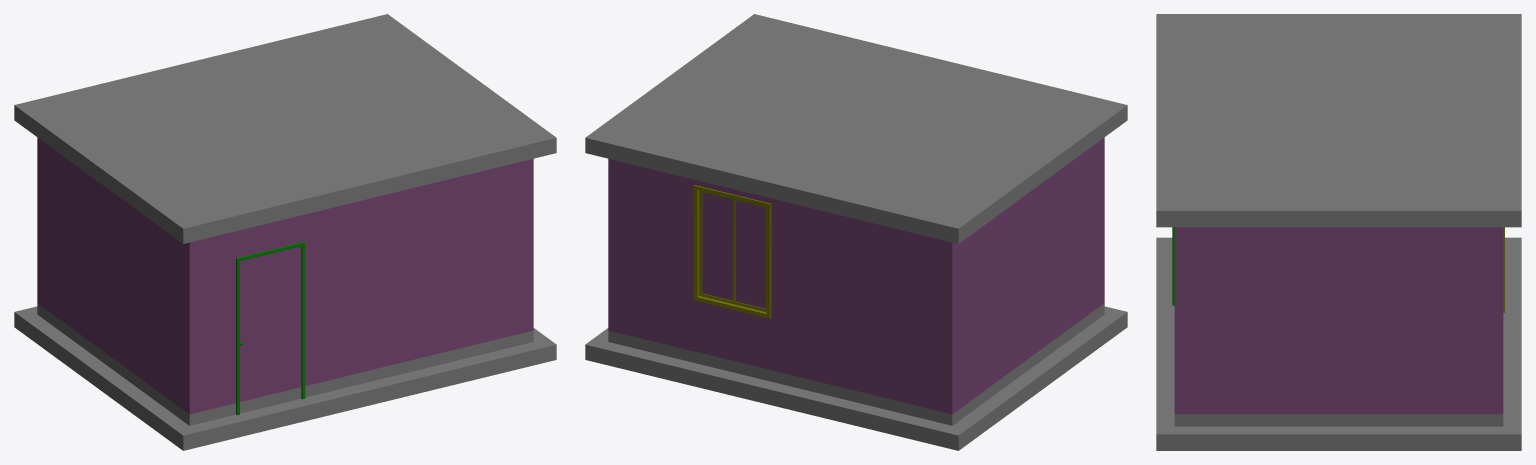
File: FloorPlan301.fbx
3 renders of one model, left to right at view 1: azimuth 30°, elevation 25°; view 2: azimuth 150°, elevation 25°; view 3: azimuth 270°, elevation 25°, orthographic. The views are drawn at different scales.
Visible parts, largest first — view 1: StandardWallSize, Ceiling, Floor, StandardDoorFrame1; view 2: StandardWallSize, Ceiling, Floor, StandardWindow3; view 3: Ceiling, StandardWallSize, Floor.
Part boxes in pixels (x1,y1,x2,y2): StandardWallSize: [37, 137, 533, 425]; Ceiling: [14, 14, 556, 243]; Floor: [14, 306, 556, 450]; StandardDoorFrame1: [236, 242, 305, 415]; StandardWallSize: [608, 137, 1104, 425]; Ceiling: [585, 14, 1127, 243]; Floor: [585, 306, 1127, 450]; StandardWindow3: [693, 185, 771, 318]; Ceiling: [1156, 14, 1521, 227]; StandardWallSize: [1174, 227, 1503, 426]; Floor: [1156, 237, 1521, 450].
Bounding box in the file's own units: 510 × 290 × 400.
